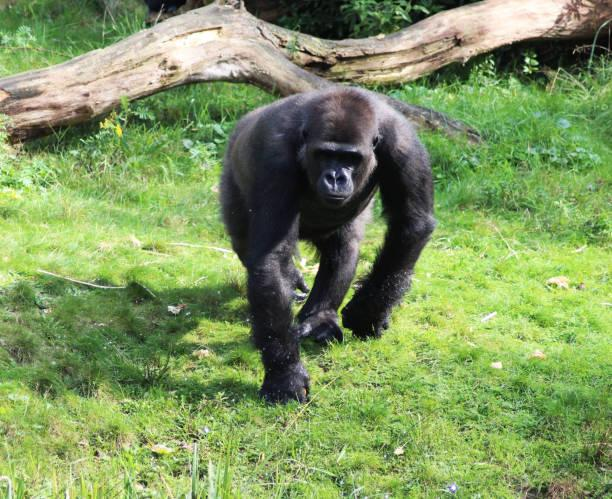gorille_Autres: (206, 70, 484, 413)
